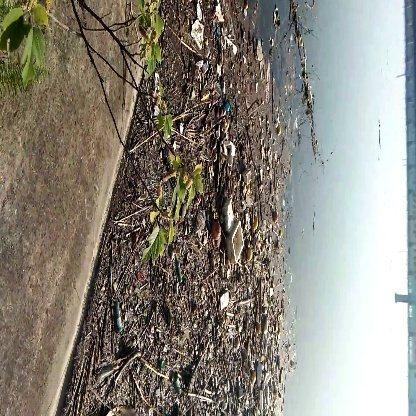plastic-garbage: (226, 194, 246, 270)
